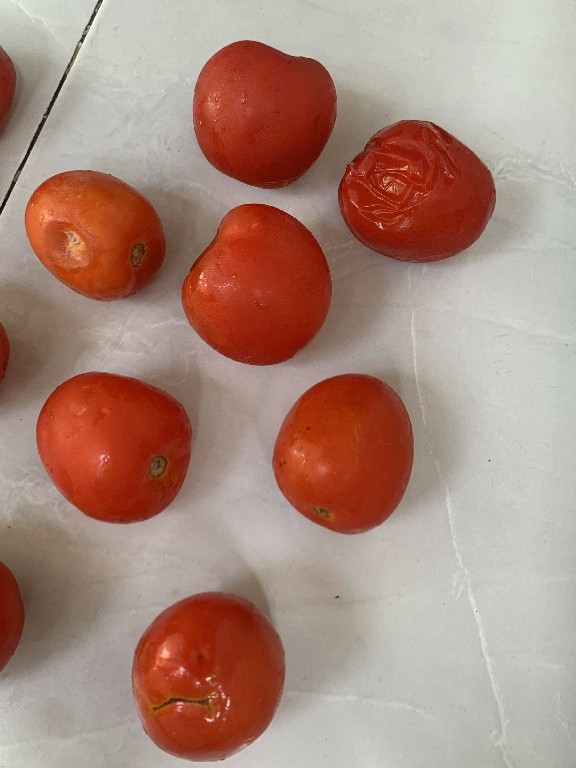NG: (120, 589, 289, 760), (338, 109, 502, 266), (19, 164, 168, 312)
OK: (180, 196, 334, 377), (29, 364, 198, 525), (181, 33, 339, 200), (269, 370, 416, 543)
